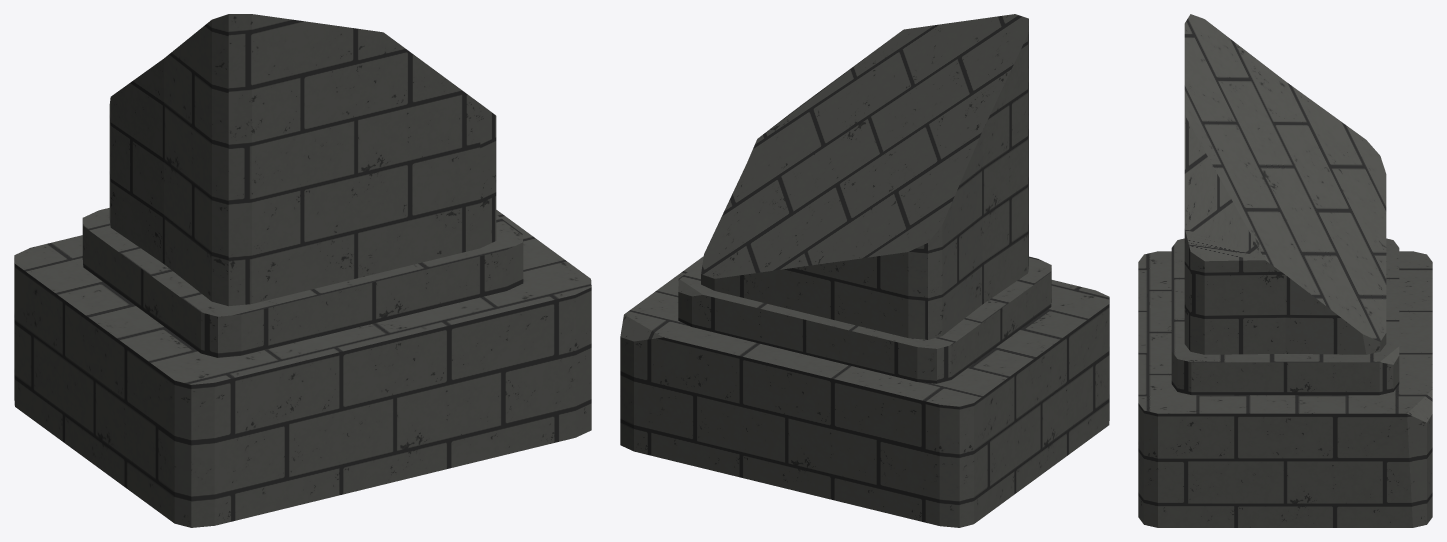
File: Pillar_Broken_v2_A_UV.fbx
3 views of the same model, side by side, from view 1: azimuth 30°, elevation 25°; view 2: azimuth 150°, elevation 25°; view 3: azimuth 270°, elevation 25° (orthographic). The views are drawn at different scales.
Visible parts, largest first — view 1: Pillar_Broken_v2_A; view 2: Pillar_Broken_v2_A; view 3: Pillar_Broken_v2_A.
Boxes of the visible parts, left/top/right/bottom form: Pillar_Broken_v2_A: left=14, top=14, right=591, bottom=527; Pillar_Broken_v2_A: left=620, top=14, right=1109, bottom=527; Pillar_Broken_v2_A: left=1138, top=14, right=1432, bottom=527.
Bounding box in the file's own units: 54.8 × 59.9 × 42.
